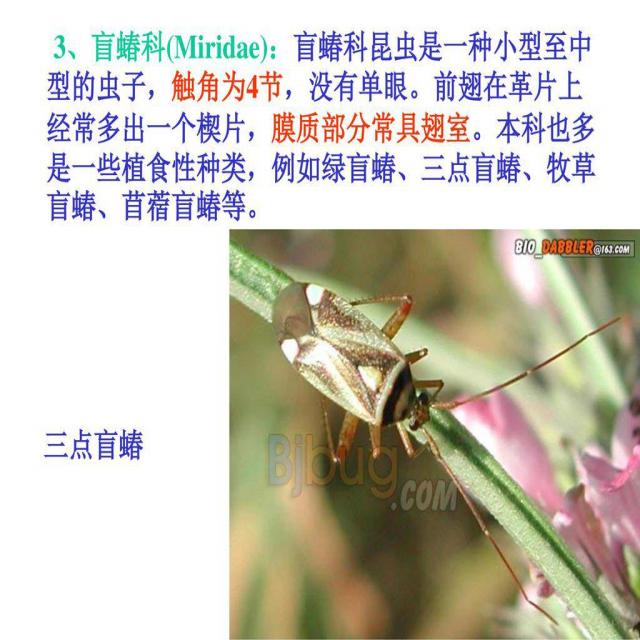Miridae-Adult-: (268, 270, 552, 487)
